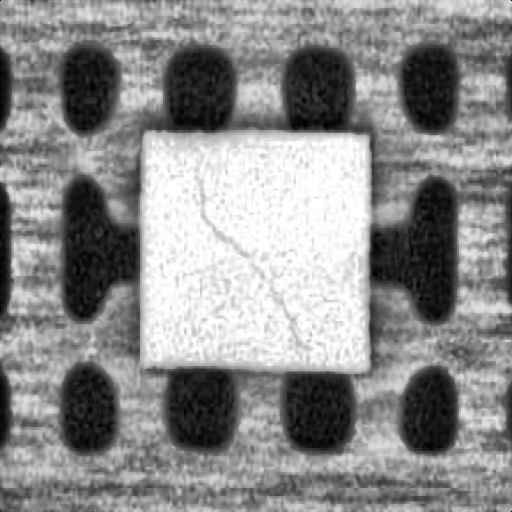DIE_CRACK: (192, 167, 302, 345)
